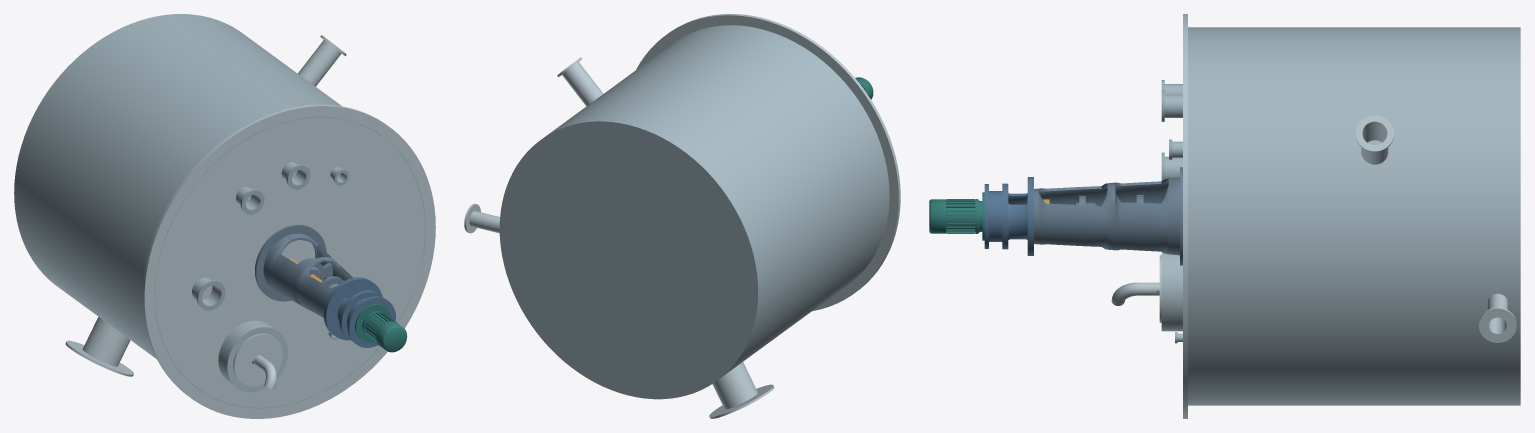
3 views of the same model, side by side, from view 1: azimuth 30°, elevation 25°; view 2: azimuth 150°, elevation 25°; view 3: azimuth 270°, elevation 25° (orthographic). The views are drawn at different scales.
Parts seen in each view (by area): view 1: 槽盖_盖板, 本体_筒壳, 支架_06_Tapered_window_frame_with_bored_seats, 接口_人孔座圈, 接口_人孔盖, 驱动_01_Motor, 接口_西南检修接管, 支架_06_Frame_foot, 驱动_02_Base_flange_top, 接口_东北侧接管, 驱动_02_Upper_mount_flange, 接口_西南检修法兰 (+3 smaller); view 2: 本体_平底, 本体_筒壳, 槽盖_盖板, 接口_西南检修接管, 接口_东北侧接管, 接口_东侧低位接管, 接口_西南检修法兰; view 3: 本体_筒壳, 支架_06_Tapered_window_frame_with_bored_seats, 槽盖_盖板, 接口_人孔座圈, 驱动_01_Motor, 接口_东侧低位法兰, 接口_东北侧法兰, 接口_东北侧接管, 驱动_02_Lower_housing_1, 驱动_02_Upper_housing.
Boxes of the visible parts, x1=… form: 槽盖_盖板: x1=142, y1=104, x2=435, y2=418; 本体_筒壳: x1=14, y1=14, x2=425, y2=408; 支架_06_Tapered_window_frame_with_bored_seats: x1=263, y1=233, x2=352, y2=317; 接口_人孔座圈: x1=218, y1=320, x2=287, y2=392; 接口_人孔盖: x1=233, y1=333, x2=282, y2=386; 驱动_01_Motor: x1=355, y1=304, x2=407, y2=352; 接口_西南检修接管: x1=82, y1=317, x2=130, y2=366; 支架_06_Frame_foot: x1=255, y1=224, x2=326, y2=301; 驱动_02_Base_flange_top: x1=325, y1=278, x2=382, y2=340; 接口_东北侧接管: x1=298, y1=40, x2=341, y2=86; 驱动_02_Upper_mount_flange: x1=347, y1=296, x2=395, y2=347; 接口_西南检修法兰: x1=65, y1=340, x2=133, y2=376; 本体_平底: x1=500, y1=122, x2=756, y2=397; 本体_筒壳: x1=499, y1=25, x2=889, y2=399; 槽盖_盖板: x1=636, y1=14, x2=900, y2=311; 接口_西南检修接管: x1=712, y1=362, x2=757, y2=409; 接口_东北侧接管: x1=562, y1=62, x2=603, y2=106; 接口_东侧低位接管: x1=469, y1=211, x2=499, y2=233; 接口_西南检修法兰: x1=709, y1=384, x2=774, y2=418; 本体_筒壳: x1=1188, y1=27, x2=1520, y2=405; 支架_06_Tapered_window_frame_with_bored_seats: x1=1034, y1=177, x2=1179, y2=255; 槽盖_盖板: x1=1183, y1=14, x2=1187, y2=418; 接口_人孔座圈: x1=1161, y1=252, x2=1182, y2=331; 驱动_01_Motor: x1=929, y1=192, x2=984, y2=240; 接口_东侧低位法兰: x1=1479, y1=307, x2=1516, y2=342; 接口_东北侧法兰: x1=1355, y1=115, x2=1393, y2=152; 接口_东北侧接管: x1=1361, y1=122, x2=1388, y2=164; 驱动_02_Lower_housing_1: x1=1008, y1=203, x2=1027, y2=239; 驱动_02_Upper_housing: x1=989, y1=191, x2=1002, y2=241.
Size of the model in its own units: 3.3 by 3.18 by 4.38.
